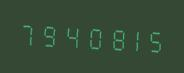eight: (101, 20, 121, 54)
five: (143, 22, 163, 56)
four: (59, 18, 79, 52)
nine: (38, 17, 58, 51)
one: (122, 21, 142, 55)
seven: (17, 16, 37, 50)
zero: (80, 19, 100, 53)
